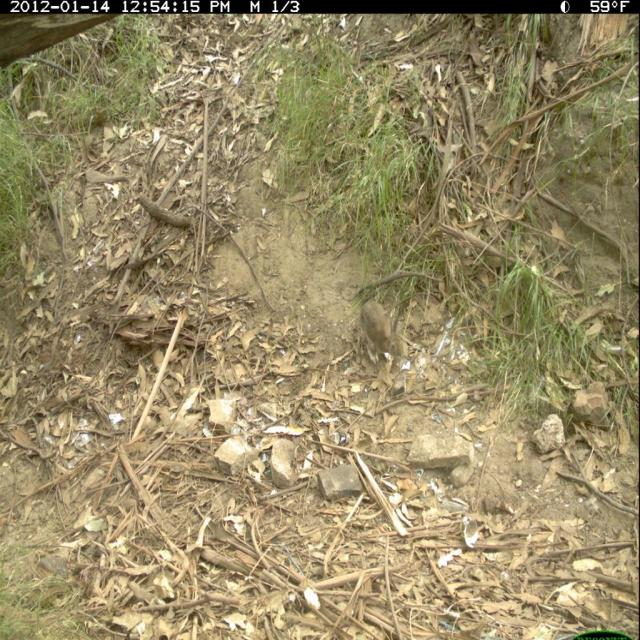rabbit: (348, 289, 416, 375)
